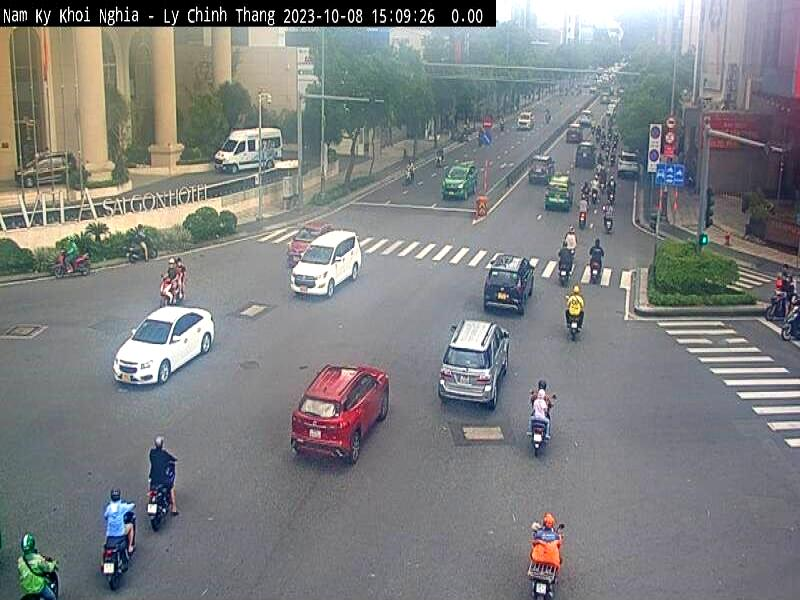car: (286, 360, 395, 471), (109, 300, 217, 394), (430, 317, 512, 412), (289, 226, 368, 304), (480, 253, 538, 315), (282, 214, 332, 268), (437, 161, 482, 203), (542, 172, 576, 215)
motorcycle: (98, 515, 138, 591), (144, 455, 178, 536), (525, 548, 569, 598), (14, 556, 64, 600), (52, 250, 91, 281), (158, 278, 190, 306), (530, 421, 548, 460), (565, 318, 578, 344)
